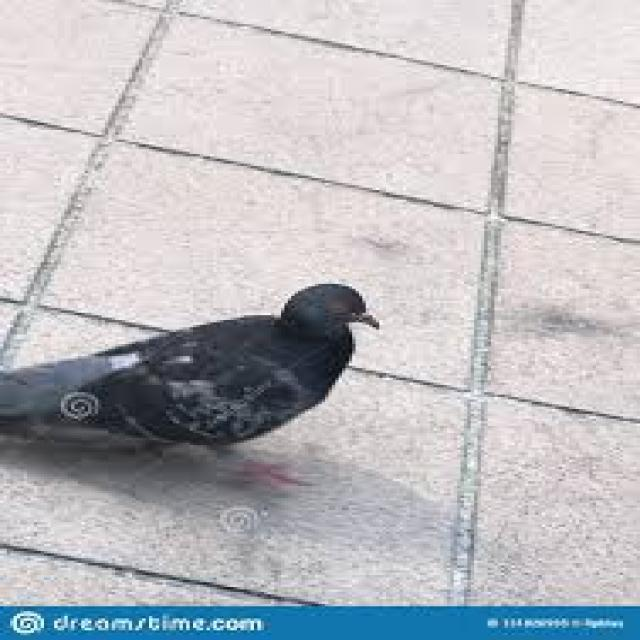bird: (0, 234, 376, 566)
